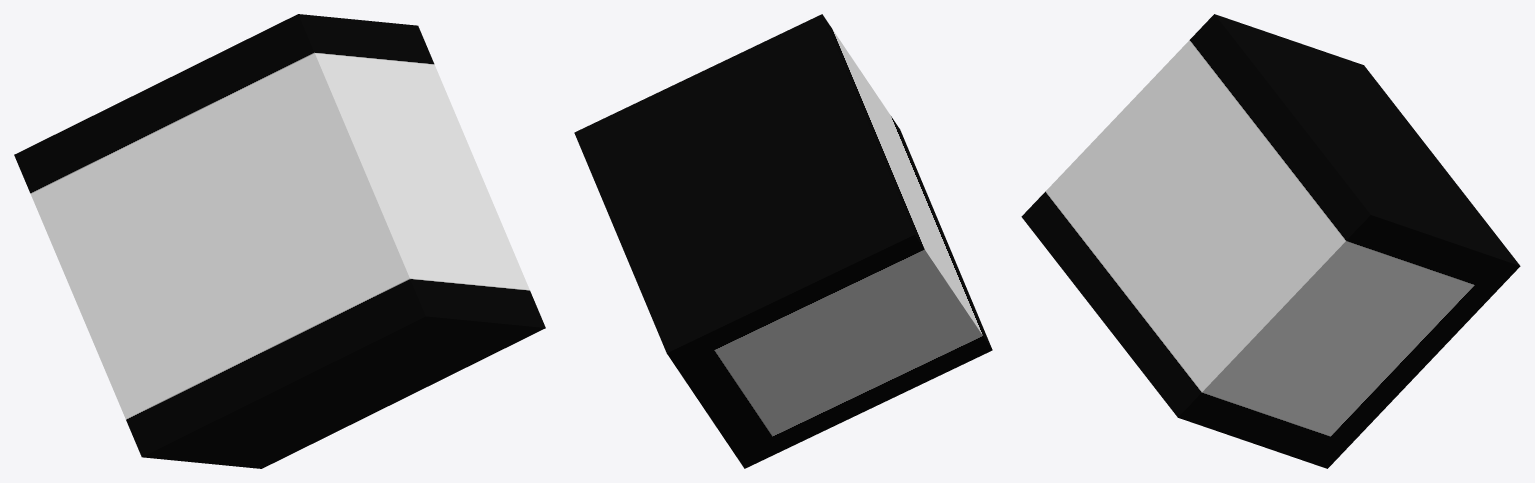
Rendered from teleport Cube.fbx.
3 renders of one model, left to right at view 1: azimuth 30°, elevation 25°; view 2: azimuth 150°, elevation 25°; view 3: azimuth 270°, elevation 25°, orthographic. The views are drawn at different scales.
Visible parts, largest first — view 1: Cube; view 2: Cube; view 3: Cube.
Boxes of the visible parts, x1,y1,x2,y2 form: Cube: (14,14,545,468); Cube: (574,14,992,468); Cube: (1021,14,1520,468).
Bounding box in the file's own units: 32.56 × 37.34 × 38.15.
Materials: 1 (1 with a texture image).
